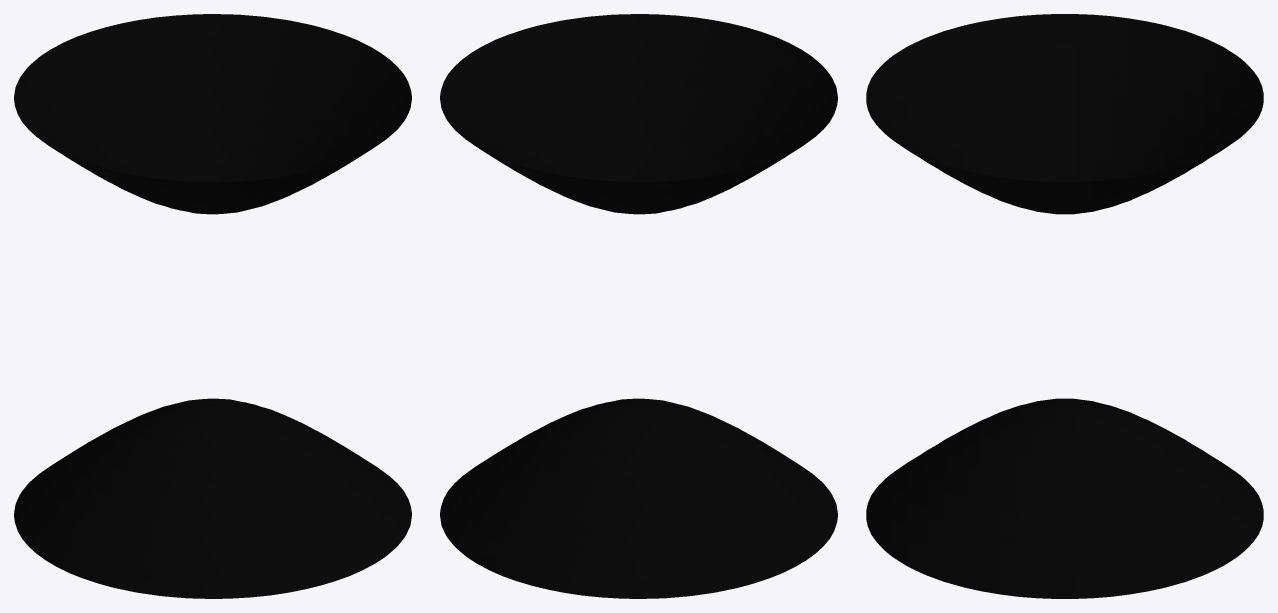
The model's file is hiperboloid2.fbx.
3 views of the same model, side by side, from view 1: azimuth 30°, elevation 25°; view 2: azimuth 150°, elevation 25°; view 3: azimuth 270°, elevation 25° (orthographic).
Parts seen in each view (by area): view 1: root; view 2: root; view 3: root.
Part boxes in pixels (bbox=[...]): root: bbox=[14, 14, 411, 598]; root: bbox=[440, 14, 837, 598]; root: bbox=[866, 14, 1263, 598].
Size of the model in its own units: 1.02 by 1.18 by 1.02.
Materials: 1 (1 with a texture image).
